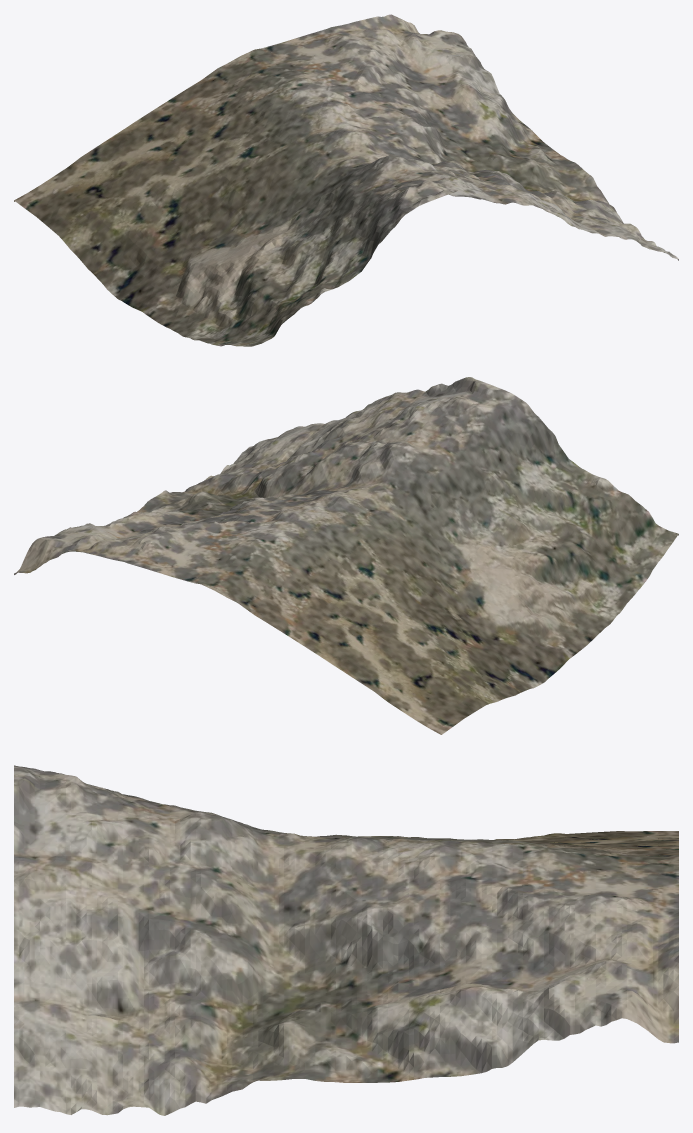
The picture shows the model from 3 angles, top to bottom: view 1: azimuth 30°, elevation 25°; view 2: azimuth 150°, elevation 25°; view 3: azimuth 270°, elevation 25°; orthographic projection. The views are drawn at different scales.
Size of the model in its own units: 250 by 88.38 by 241.
Materials: 1 (1 with a texture image).
